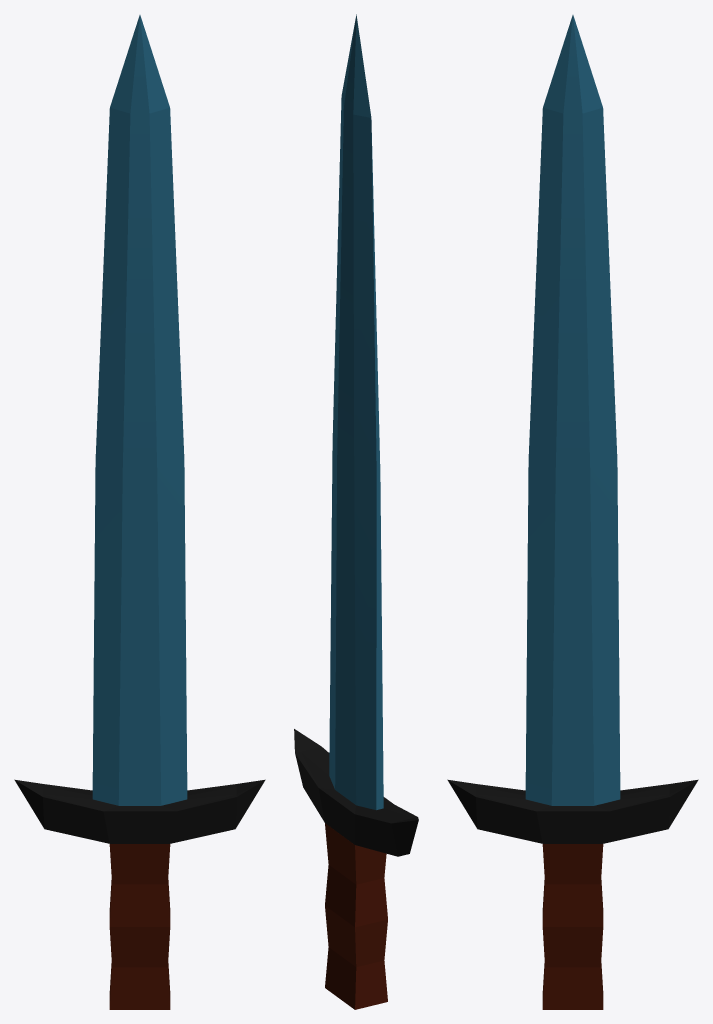
Rendered from longsword_unique.obj.
3 renders of one model, left to right at view 1: azimuth 90°, elevation 25°; view 2: azimuth 210°, elevation 25°; view 3: azimuth 270°, elevation 25°, orthographic.
Visible parts, largest first — view 1: Sword_Cube.003; view 2: Sword_Cube.003; view 3: Sword_Cube.003.
Part boxes in pixels (x1,y1,x2,y2): Sword_Cube.003: [14, 15, 265, 1009]; Sword_Cube.003: [294, 14, 418, 1009]; Sword_Cube.003: [447, 15, 698, 1009].
Size of the model in its own units: 0.1055 by 2.49 by 0.5742.
